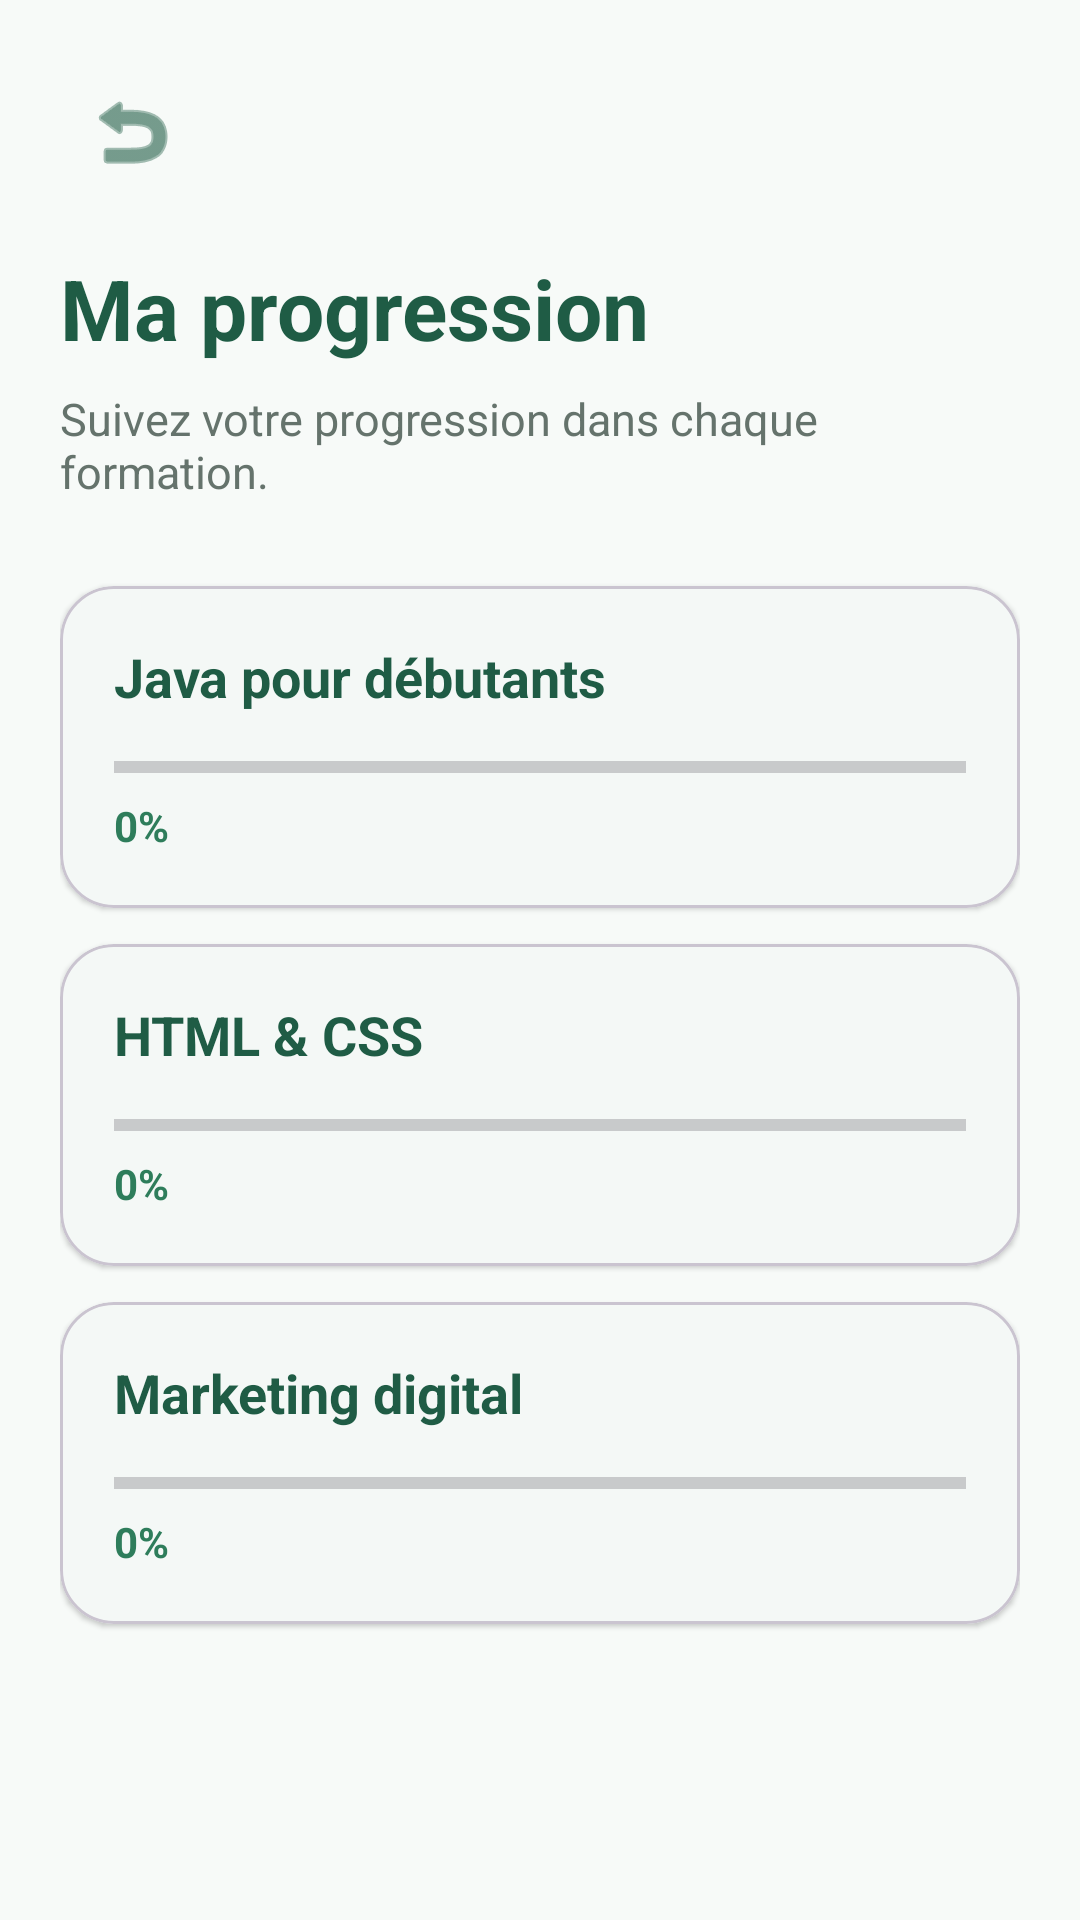

Locate icon controls on the screen. Image size 1080px x 1920px, boxes as (x1, y1, x2, y2).
Retour: (99, 101, 168, 164)
